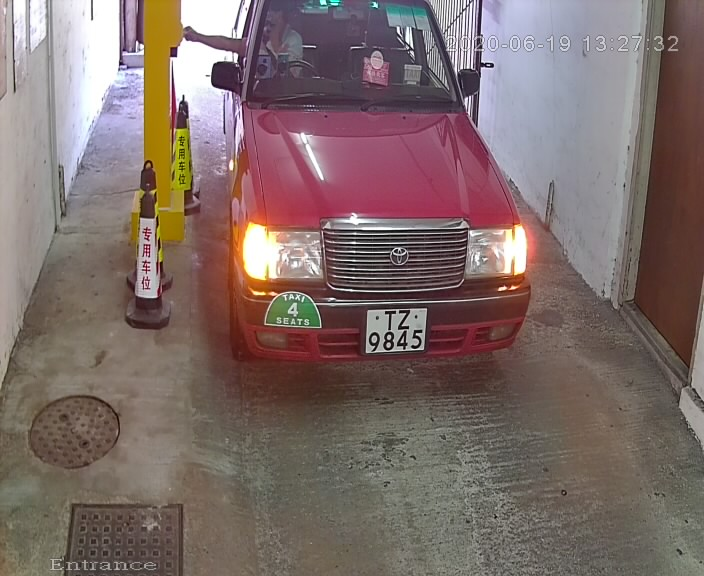taxi: (201, 1, 552, 384)
taxi_mark: (258, 273, 331, 345)
